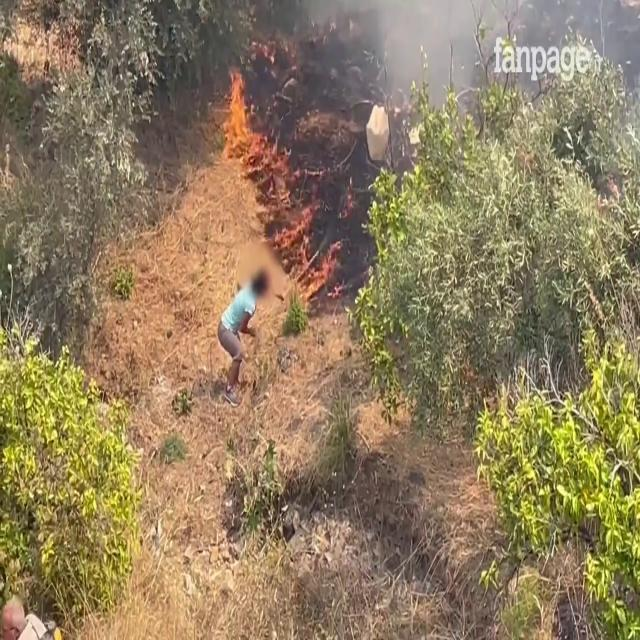Fire: (218, 58, 258, 166)
